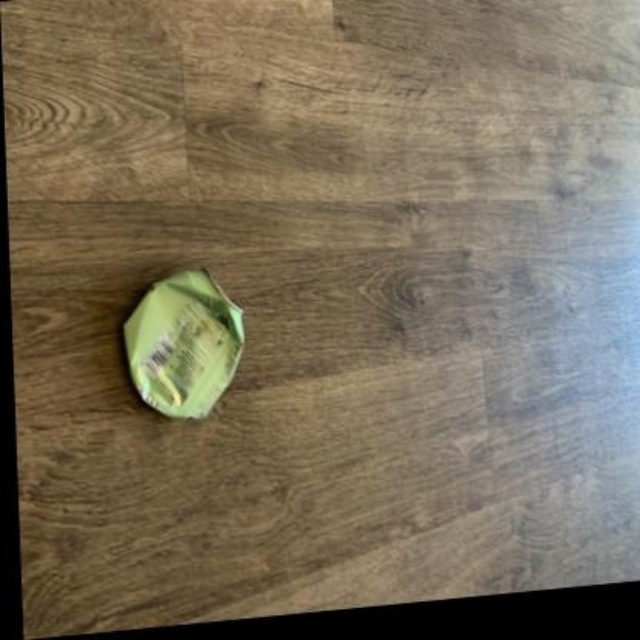trash: (123, 271, 243, 417)
